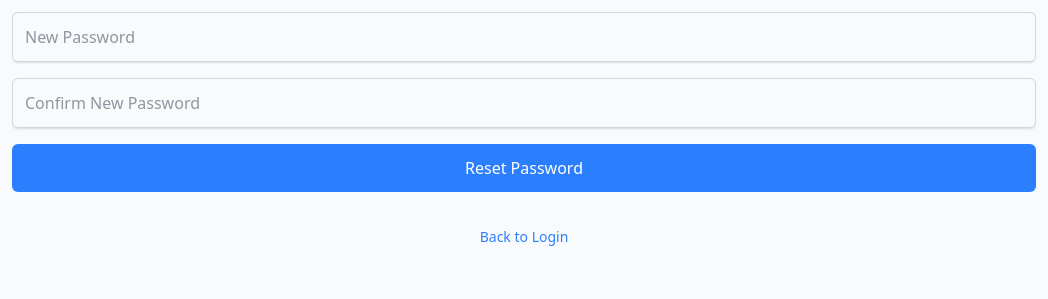
it: ResetPasswordForm › shows error when passwords do not match
Step 1. Type "password123" into the password field with placeholder "New Password" → (524, 37), box top-left (12, 12), bottom-right (1036, 62)
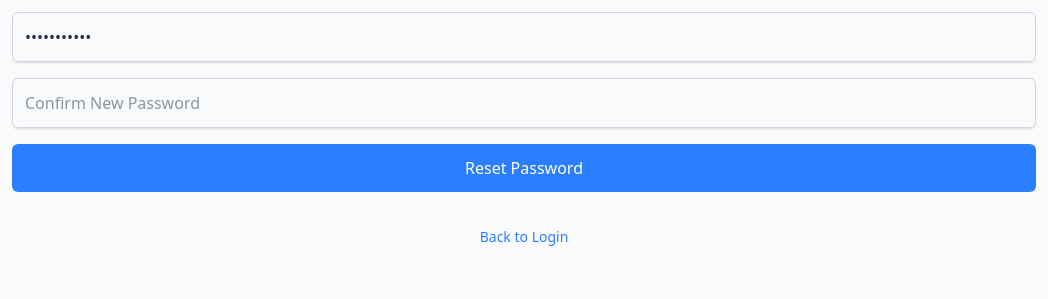
Step 2. Type "password456" into the password field with placeholder "Confirm New Password" → (524, 103), box top-left (12, 78), bottom-right (1036, 128)
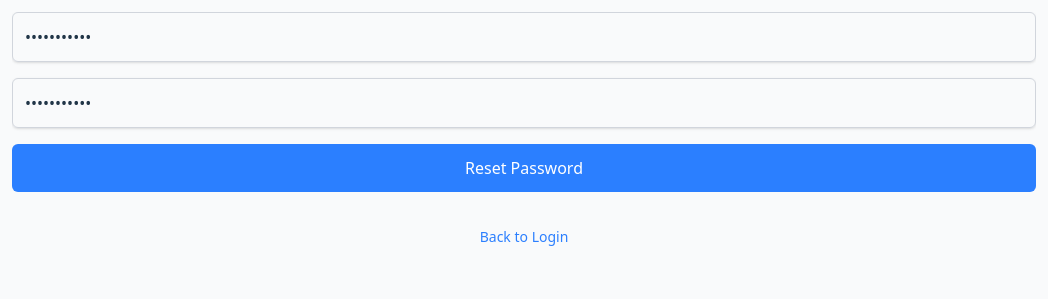
Step 3. Click the button "Reset Password" → click(524, 168), box top-left (12, 144), bottom-right (1036, 192)
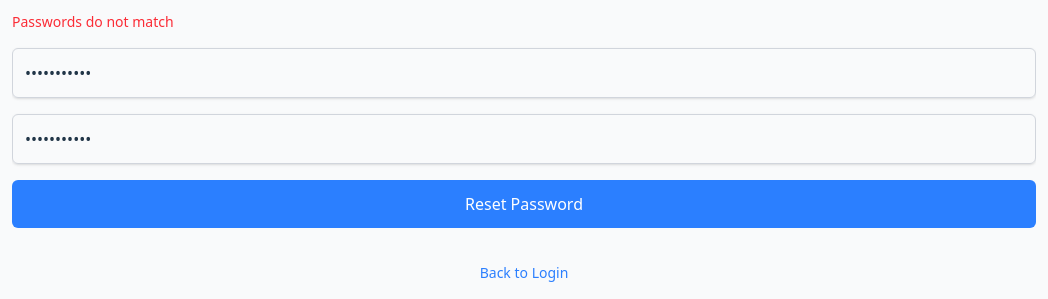
Check: the text "Passwords do not match" is shown, box top-left (12, 12), bottom-right (174, 31)
